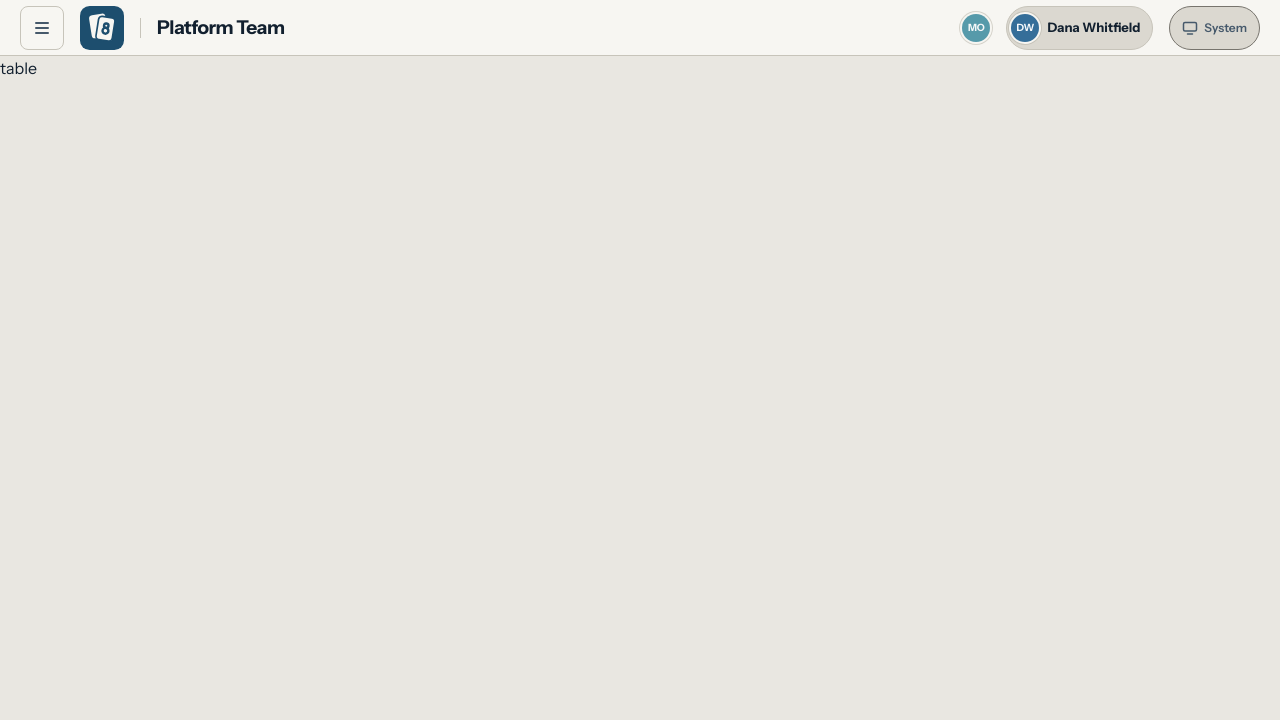
Scenario: the sidebar on a phone › opens the space nav as a sheet, because the rail has nowhere to go
Click the button named "Show sidebar" at (42, 28), box [20,6,64,50]
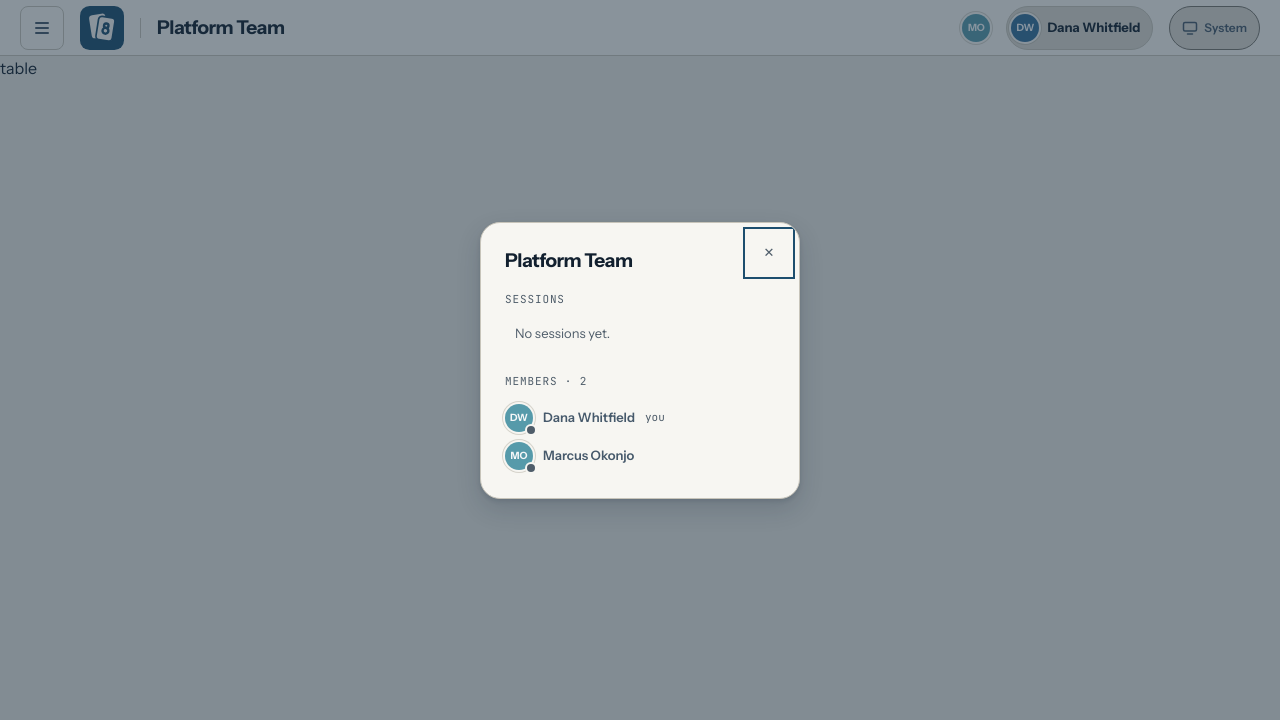
Expected: the heading "Members · 2" is shown, [505,374,587,388]
